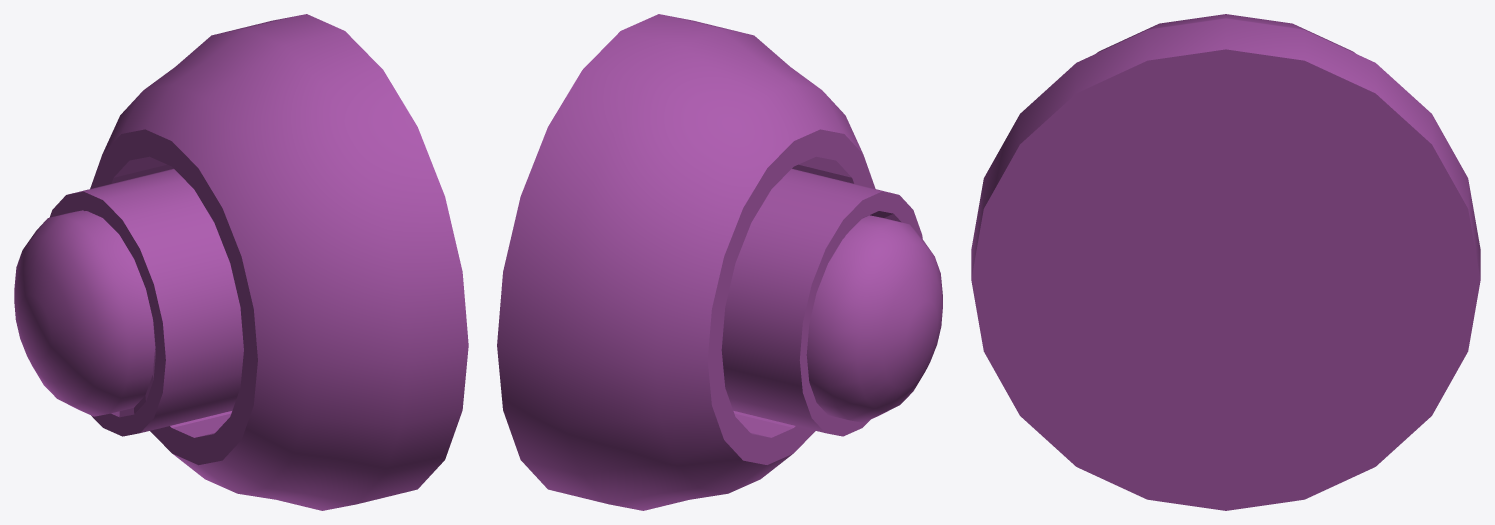
File: Laser.fbx
The picture shows the model from 3 angles, left to right: view 1: azimuth 30°, elevation 25°; view 2: azimuth 150°, elevation 25°; view 3: azimuth 270°, elevation 25°; orthographic projection. The views are drawn at different scales.
Parts seen in each view (by area): view 1: Laser; view 2: Laser; view 3: Laser.
Part boxes in pixels (bbox=[...]): Laser: bbox=[14, 14, 468, 510]; Laser: bbox=[497, 14, 942, 510]; Laser: bbox=[971, 14, 1480, 510].
Size of the model in its own units: 0.1434 by 0.2 by 0.2.
